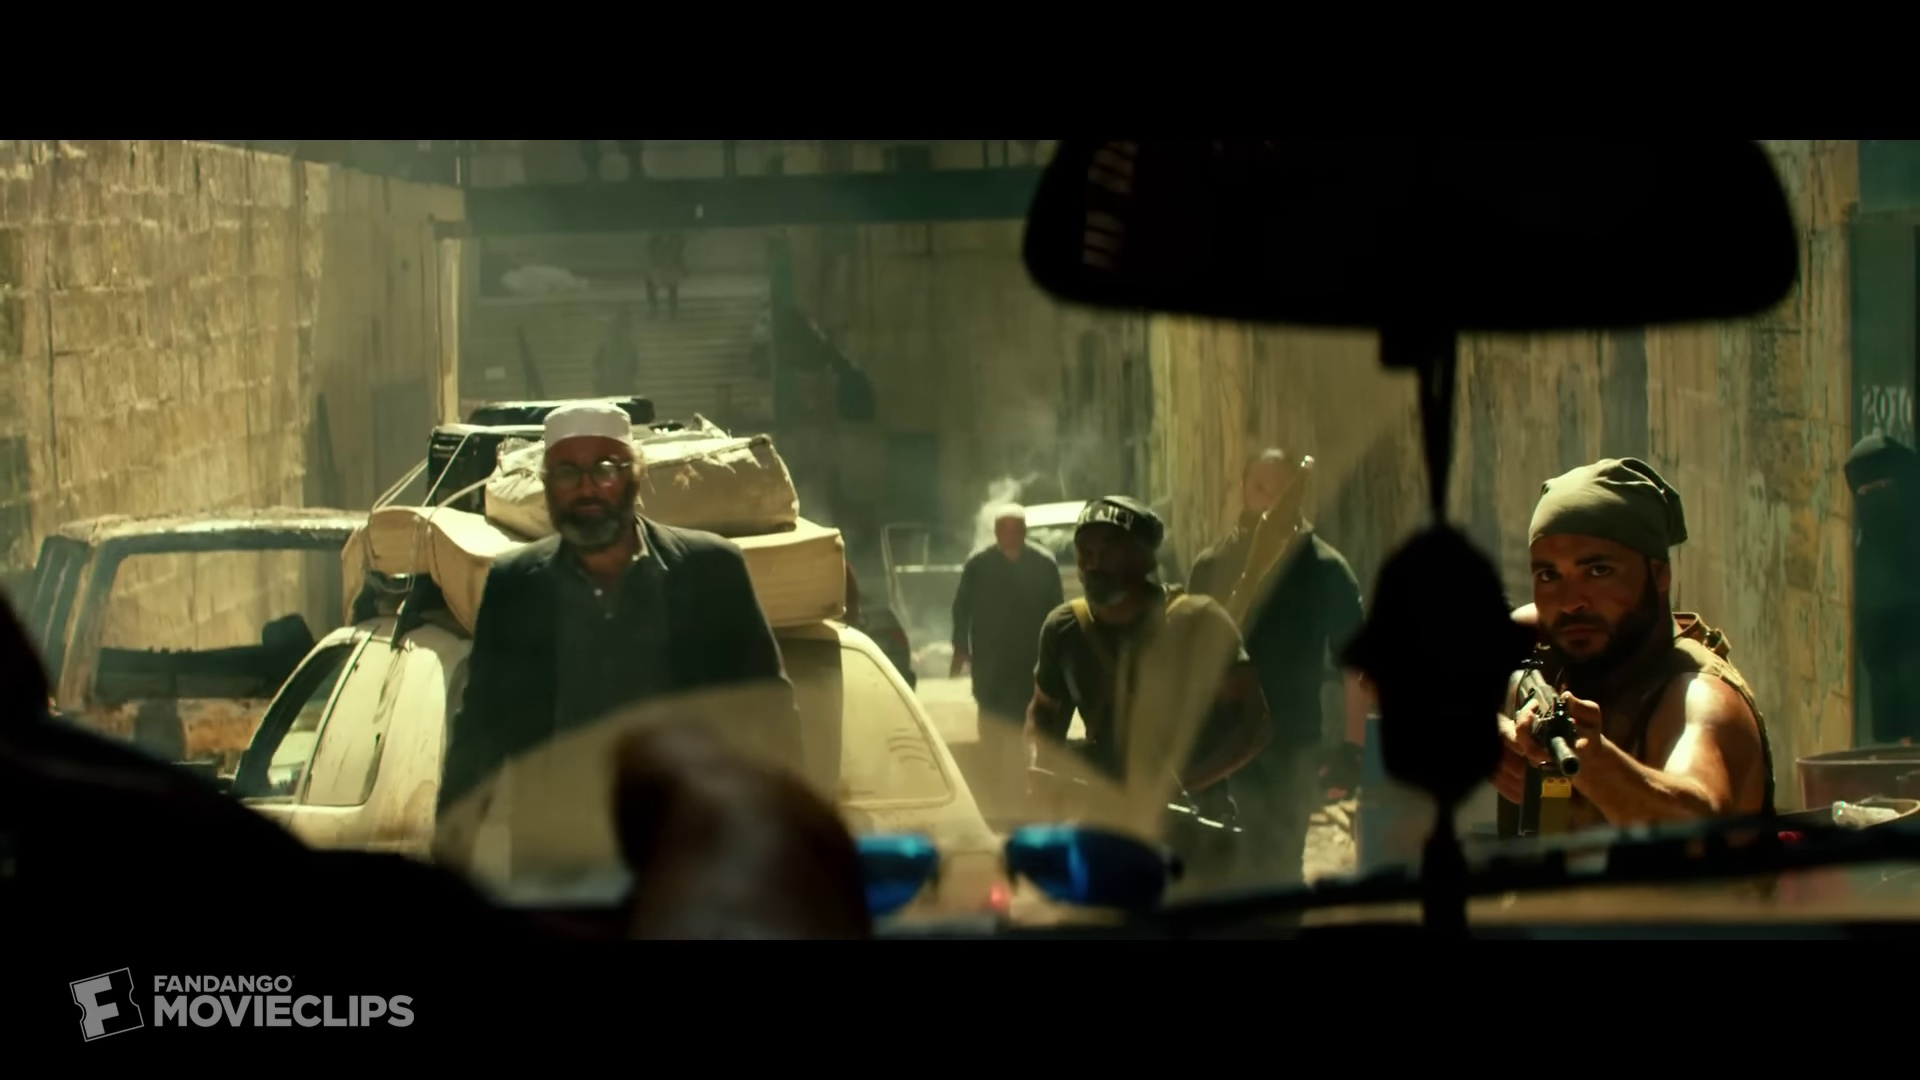gun: (1021, 760, 1245, 861), (1491, 641, 1585, 843), (1229, 448, 1317, 628)
p_w_gun: (1461, 451, 1785, 874), (1017, 489, 1276, 891), (1172, 442, 1373, 880)
p_wo_gun_not_carrying_normal_pose: (440, 394, 820, 890), (945, 496, 1065, 778)
